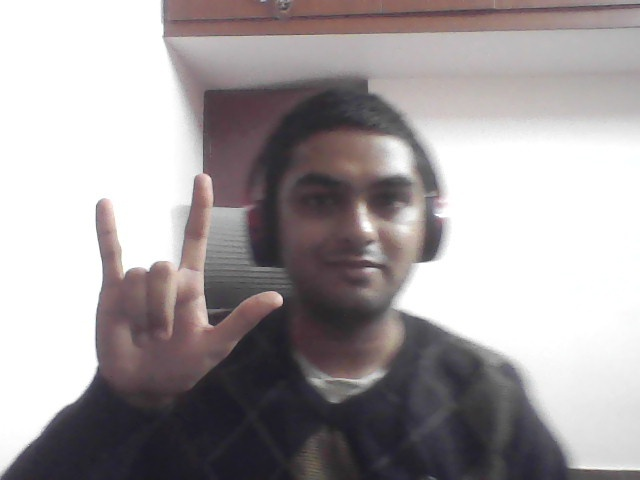I Love You: (74, 150, 289, 411)
